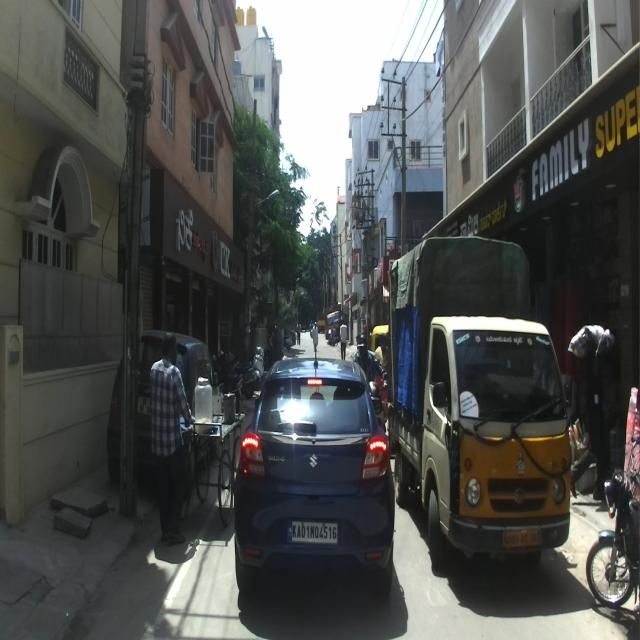car: (231, 342, 394, 602), (107, 328, 224, 504)
motorcycle: (585, 436, 639, 612)
truck: (386, 233, 572, 579)
